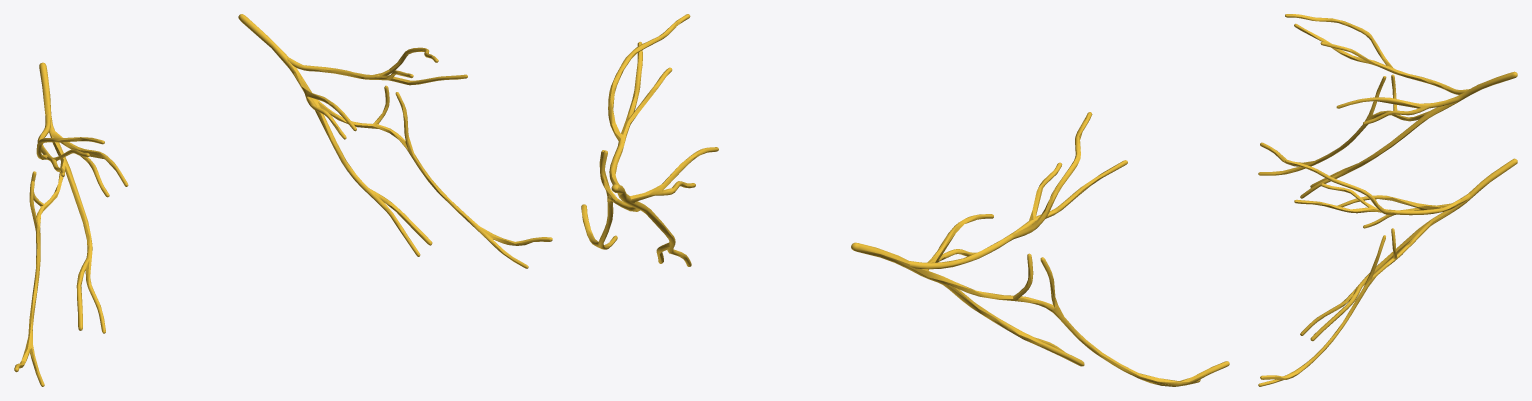
Rendered from oculomotor.glb.
The picture shows the model from 3 angles, left to right: view 1: azimuth 30°, elevation 25°; view 2: azimuth 150°, elevation 25°; view 3: azimuth 270°, elevation 25°; orthographic projection. The views are drawn at different scales.
Visible parts, largest first — view 1: grp1; view 2: grp1; view 3: grp1.
Boxes of the visible parts, left/top/right/bottom form: grp1: left=14, top=14, right=552, bottom=386; grp1: left=581, top=14, right=1229, bottom=386; grp1: left=1258, top=14, right=1517, bottom=386.
Size of the model in its own units: 0.0768 by 0.0296 by 0.0359.
